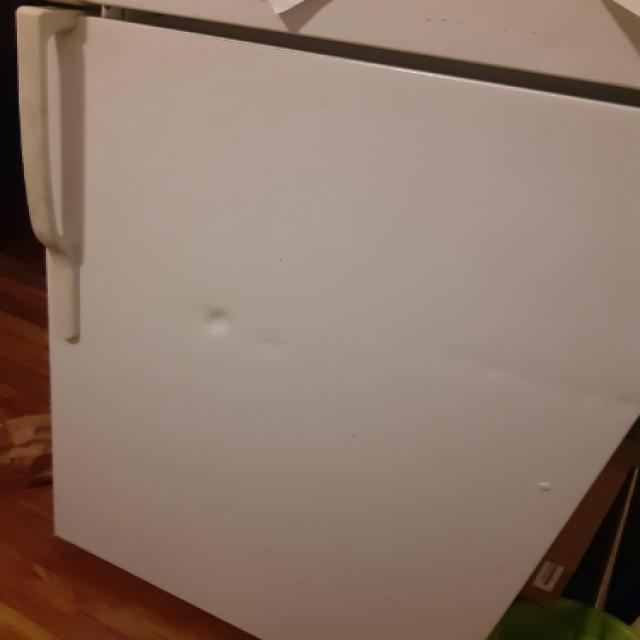dents: (180, 291, 249, 349), (574, 366, 636, 430), (459, 348, 533, 401)
